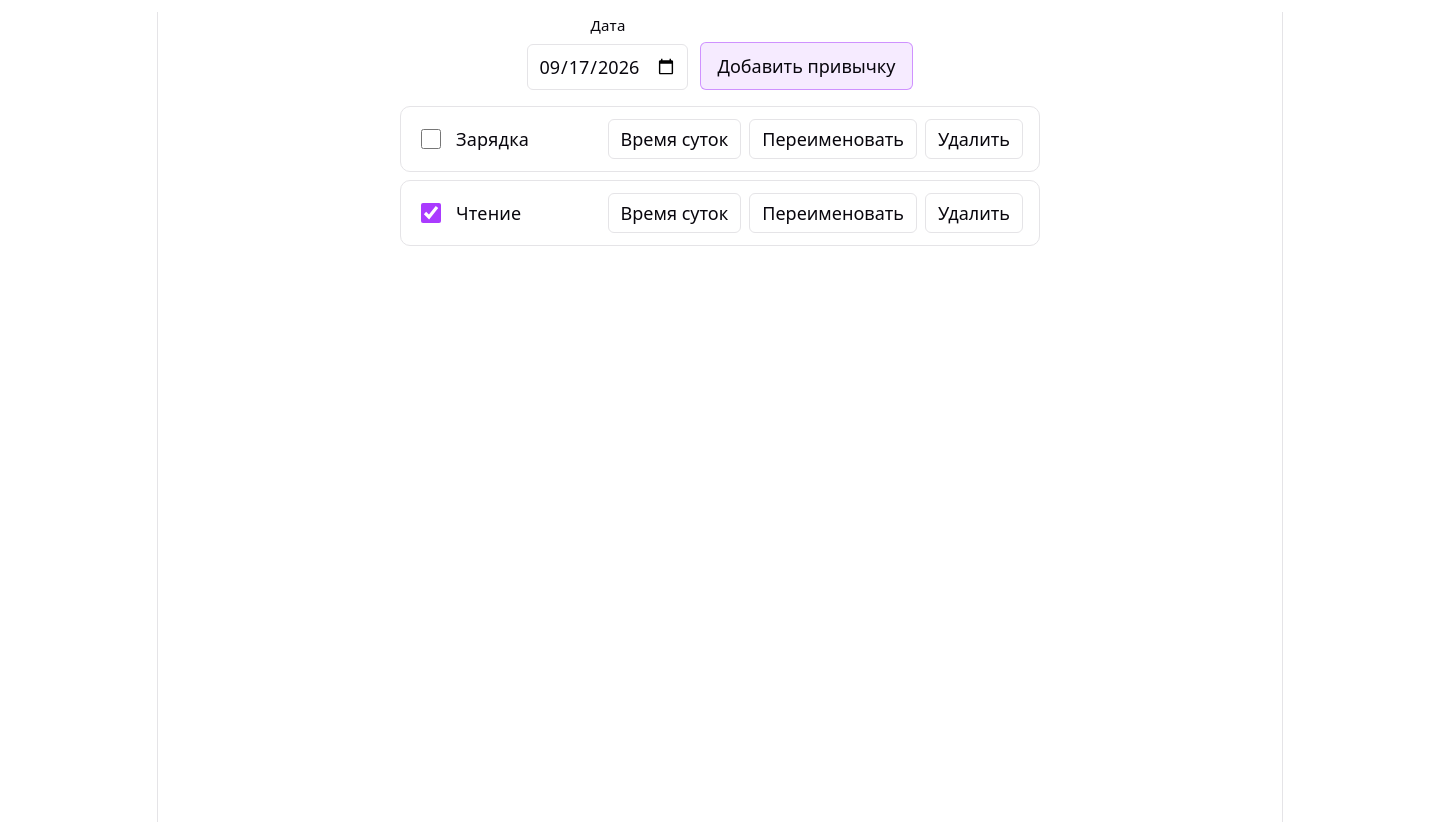
it: HabitsTab › возвращает чекбокс в исходное состояние при ошибке отметки
This screenshot has width=1440, height=822.
Click the checkbox labelled "Зарядка" at (431, 139), box top-left (421, 129), bottom-right (441, 149)
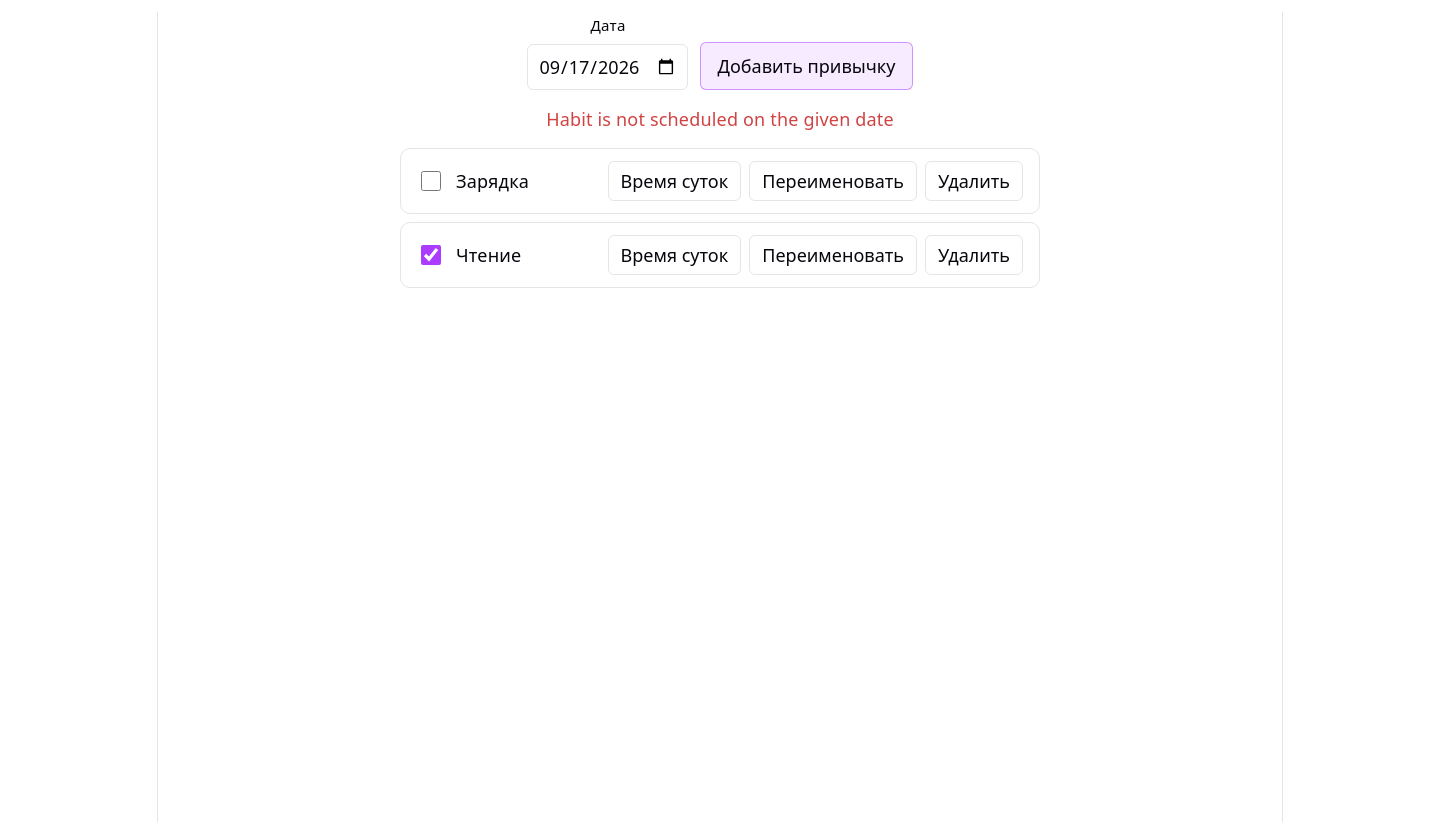
expect the checkbox labelled "Зарядка" is not checked: met, box top-left (421, 171), bottom-right (441, 191)
expect the message reads "Habit is not scheduled on the given date": met, box top-left (546, 107), bottom-right (894, 131)
